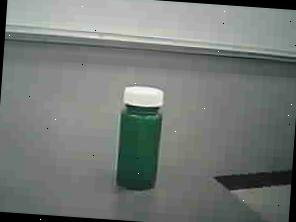Bottle C: (105, 74, 176, 204)
